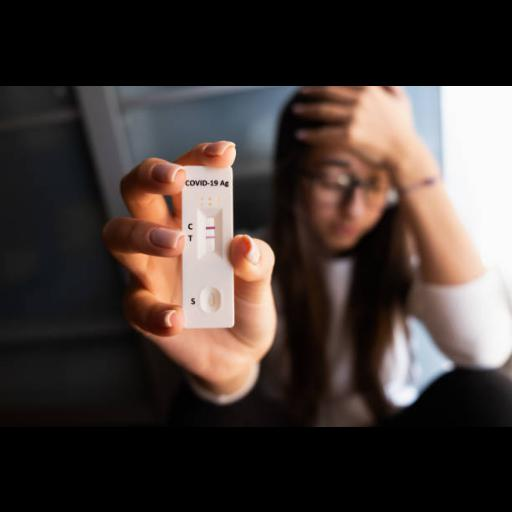Pos: (180, 164, 234, 326)
